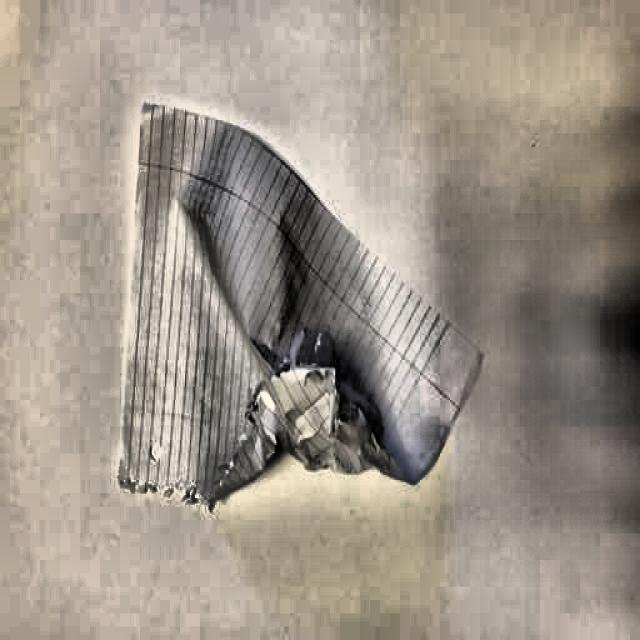paper: (127, 102, 476, 538)
